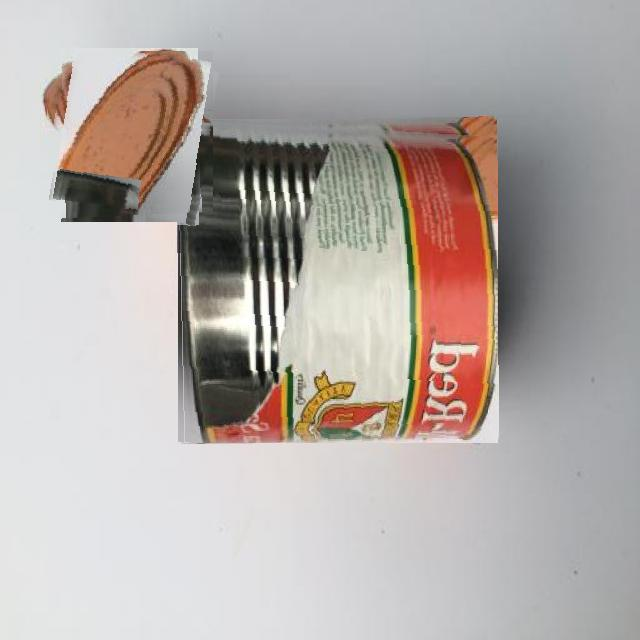recyclable: (177, 118, 498, 443), (45, 52, 213, 220)
